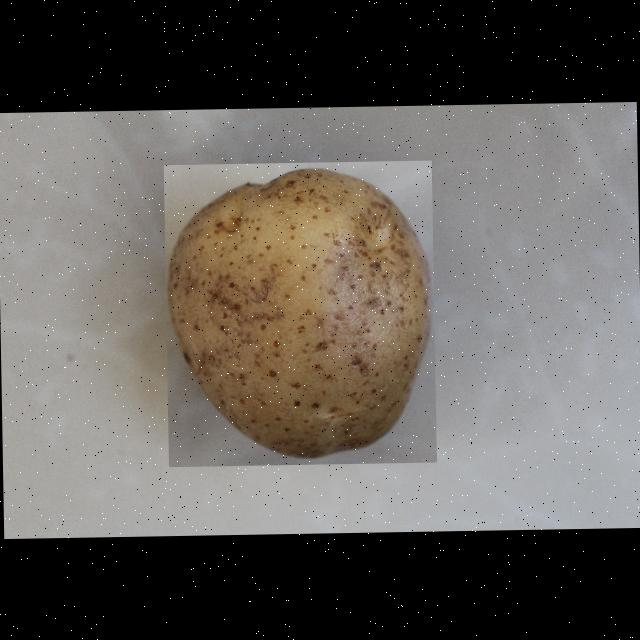Diseased-fungal potato: (164, 160, 436, 467)
